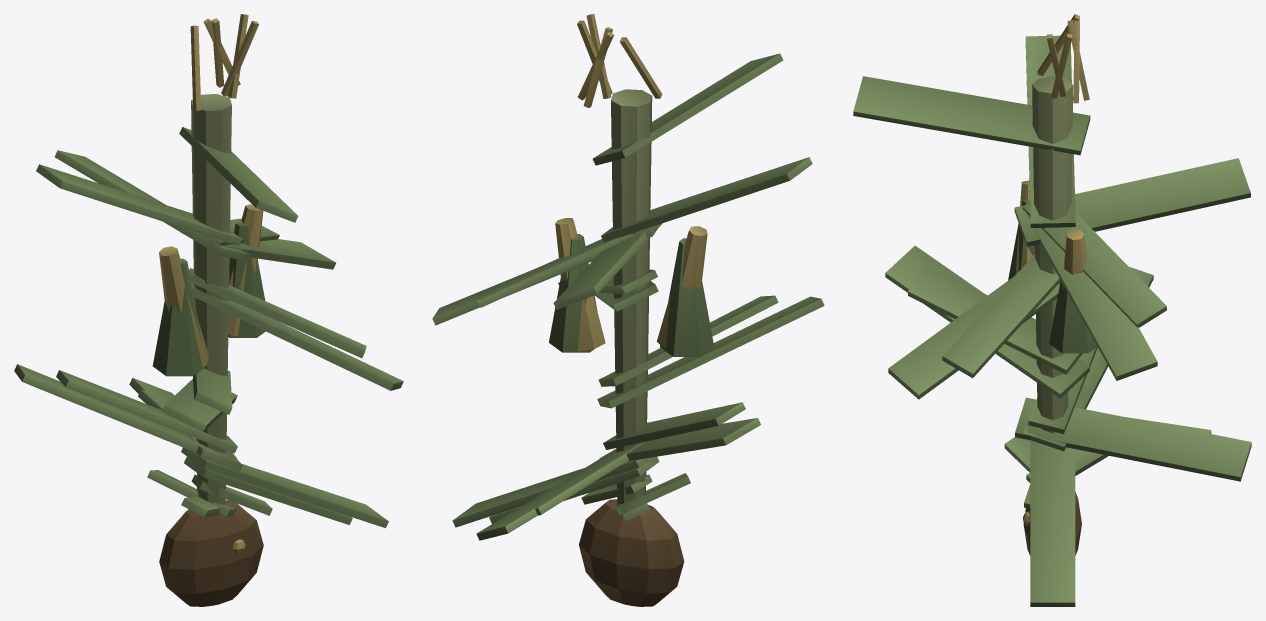
The model's file is crop_corn.glb.
The picture shows the model from 3 angles, left to right: view 1: azimuth 30°, elevation 25°; view 2: azimuth 150°, elevation 25°; view 3: azimuth 270°, elevation 25°; orthographic projection. The views are drawn at different scales.
Parts seen in each view (by area): view 1: stalk, seed_mound, husk, leaf.007, leaf.004, leaf, leaf.002, leaf.008, leaf2.004, leaf2.002, leaf.005, leaf.006 (+15 smaller); view 2: stalk, seed_mound, leaf.003, leaf.007, husk, leaf.008, leaf.002, leaf.006, leaf2.002, leaf, leaf2.005, leaf.001 (+13 smaller); view 3: leaf.008, leaf.006, leaf, stalk, leaf.001, leaf.005, leaf2.004, leaf2.005, leaf.004, leaf2.003, leaf.003, leaf.007 (+8 smaller).
Part boxes in pixels (x1=…): stalk: x1=191, y1=94, x2=231, y2=505; seed_mound: x1=159, y1=500, x2=263, y2=606; husk: x1=152, y1=258, x2=206, y2=376; leaf.007: x1=36, y1=164, x2=241, y2=245; leaf.004: x1=191, y1=283, x2=403, y2=390; leaf: x1=181, y1=447, x2=388, y2=528; leaf.002: x1=14, y1=364, x2=239, y2=462; leaf.008: x1=179, y1=127, x2=298, y2=222; leaf2.004: x1=189, y1=268, x2=366, y2=358; leaf2.002: x1=56, y1=370, x2=237, y2=453; leaf.005: x1=179, y1=227, x2=335, y2=269; leaf.006: x1=54, y1=150, x2=250, y2=261; stalk: x1=611, y1=89, x2=652, y2=506; seed_mound: x1=579, y1=499, x2=684, y2=606; leaf.003: x1=597, y1=296, x2=824, y2=408; leaf.007: x1=601, y1=157, x2=812, y2=242; husk: x1=660, y1=238, x2=714, y2=356; leaf.008: x1=592, y1=53, x2=783, y2=165; leaf.002: x1=599, y1=418, x2=760, y2=461; leaf.006: x1=553, y1=223, x2=662, y2=309; leaf2.002: x1=603, y1=402, x2=745, y2=449; leaf: x1=452, y1=457, x2=652, y2=527; leaf2.005: x1=475, y1=225, x2=657, y2=307; leaf.001: x1=476, y1=441, x2=645, y2=540; leaf.008: x1=853, y1=76, x2=1090, y2=155; leaf.006: x1=1014, y1=158, x2=1250, y2=246; leaf: x1=1030, y1=440, x2=1075, y2=606; stalk: x1=1032, y1=76, x2=1073, y2=433; leaf.001: x1=1015, y1=397, x2=1251, y2=481; leaf.005: x1=1022, y1=206, x2=1157, y2=380; leaf2.004: x1=942, y1=254, x2=1060, y2=378; leaf2.005: x1=1022, y1=202, x2=1166, y2=327; leaf.004: x1=888, y1=276, x2=1059, y2=399; leaf2.003: x1=907, y1=266, x2=1082, y2=374; leaf.003: x1=885, y1=245, x2=1089, y2=398; leaf.007: x1=1025, y1=35, x2=1075, y2=227.
Size of the model in its own units: 0.9947 by 1.65 by 1.06.
